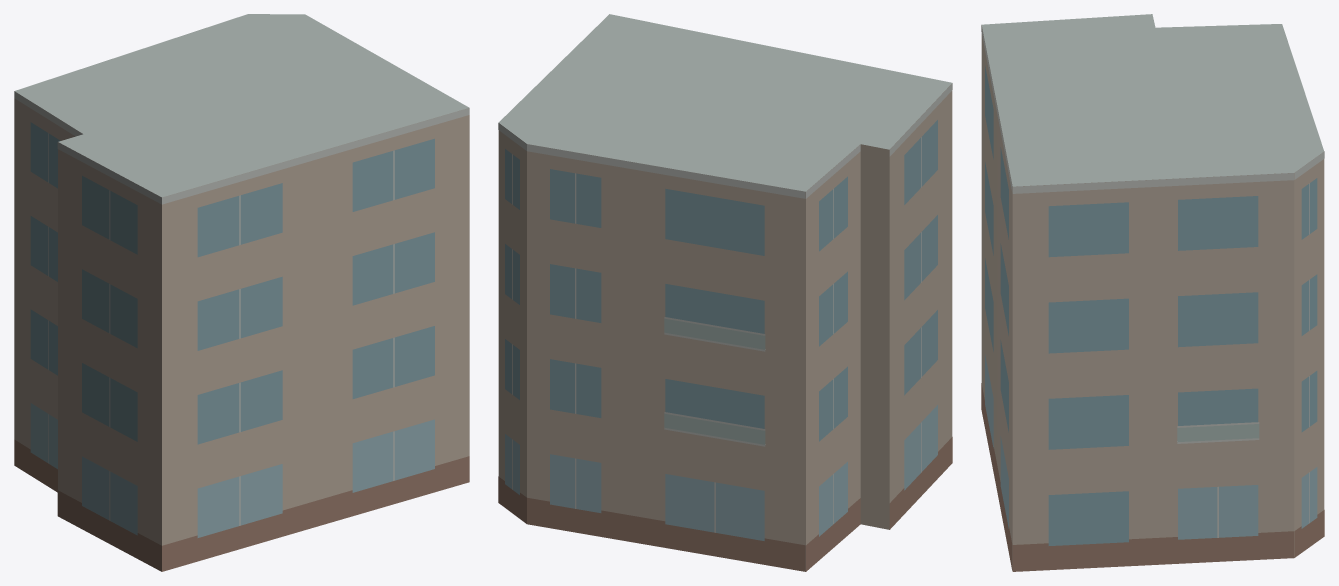
Rendered from survey-upis-32926707.glb.
3 renders of one model, left to right at view 1: azimuth 30°, elevation 25°; view 2: azimuth 150°, elevation 25°; view 3: azimuth 270°, elevation 25°, orthographic. The views are drawn at different scales.
Visible parts, largest first — view 1: survey-upis-32926707.tmp; view 2: survey-upis-32926707.tmp; view 3: survey-upis-32926707.tmp.
Part boxes in pixels (<box>): survey-upis-32926707.tmp: <box>14,14,469,571</box>; survey-upis-32926707.tmp: <box>498,14,952,571</box>; survey-upis-32926707.tmp: <box>981,14,1324,571</box>.
Bounding box in the file's own units: 12.31 × 12.8 × 10.33.
